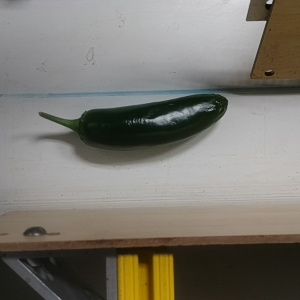Cut Point: (71, 107, 98, 147)
